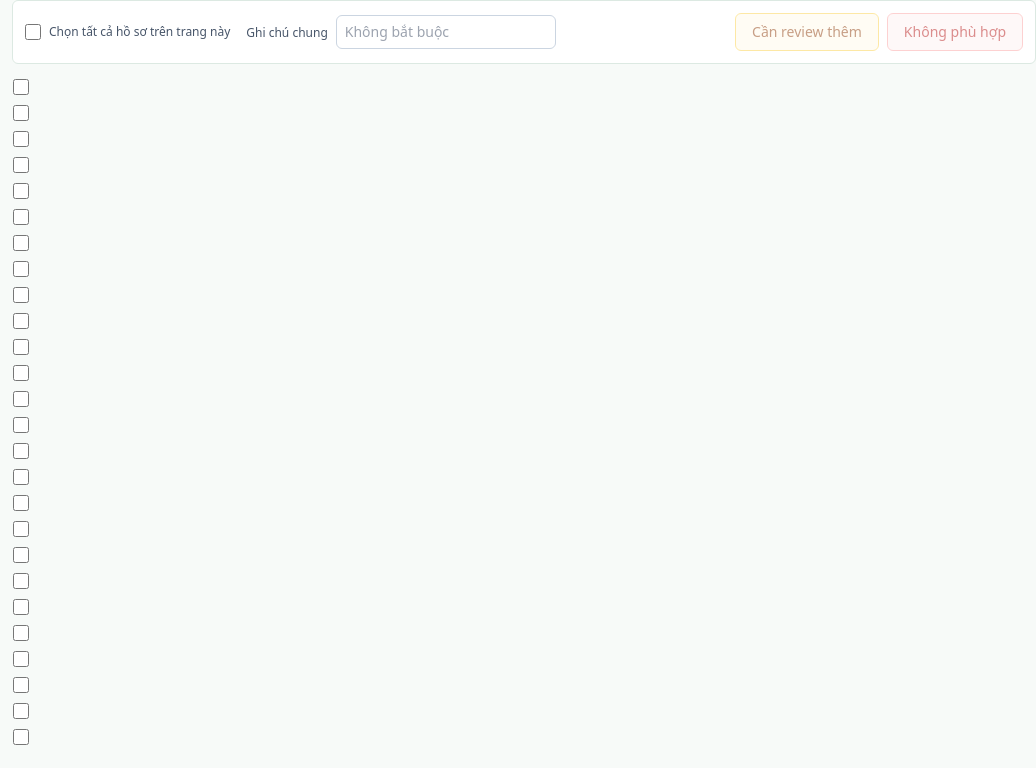
Test: bulk selection UX › blocks submission and explains when a page would exceed the server cap
Click the checkbox with test id "bulk-select-all".
click(33, 32)  # box [25,24,41,40]
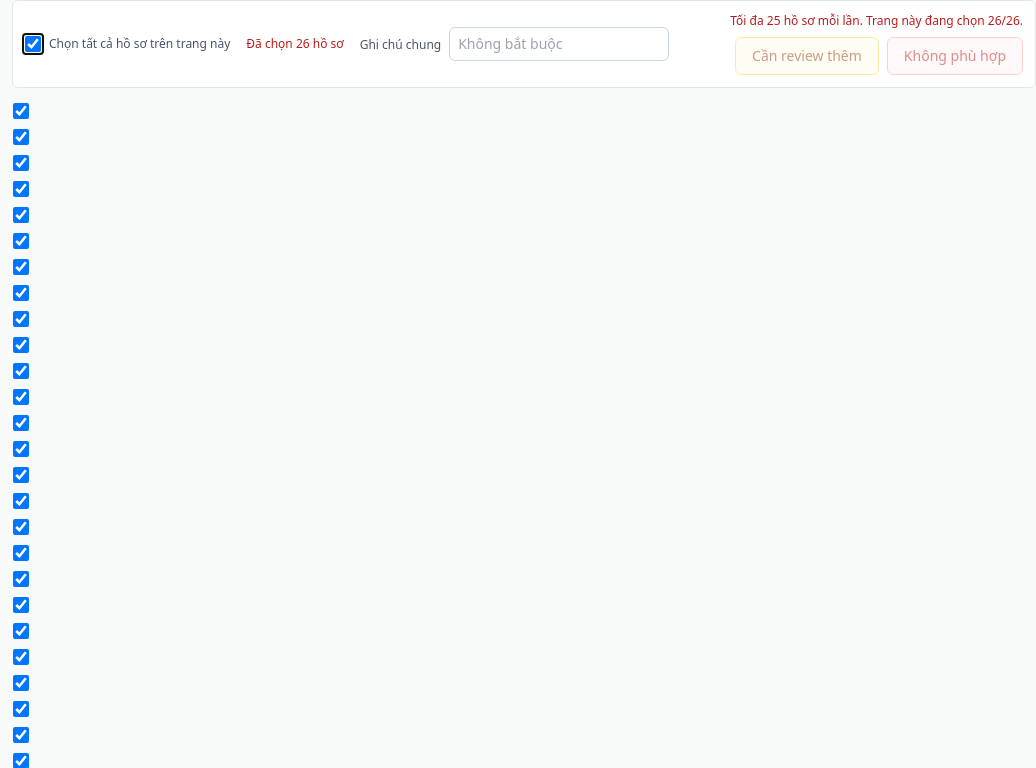
Expected: the button "Cần review thêm" is disabled, [735,37,879,75]
Now the text with test id "bulk-selected-count" reads "Đã chọn 26 hồ sơ", box [246,36,344,52]
Now the text with test id "bulk-over-limit" shows "Tối đa 25", box [730,13,1023,29]
